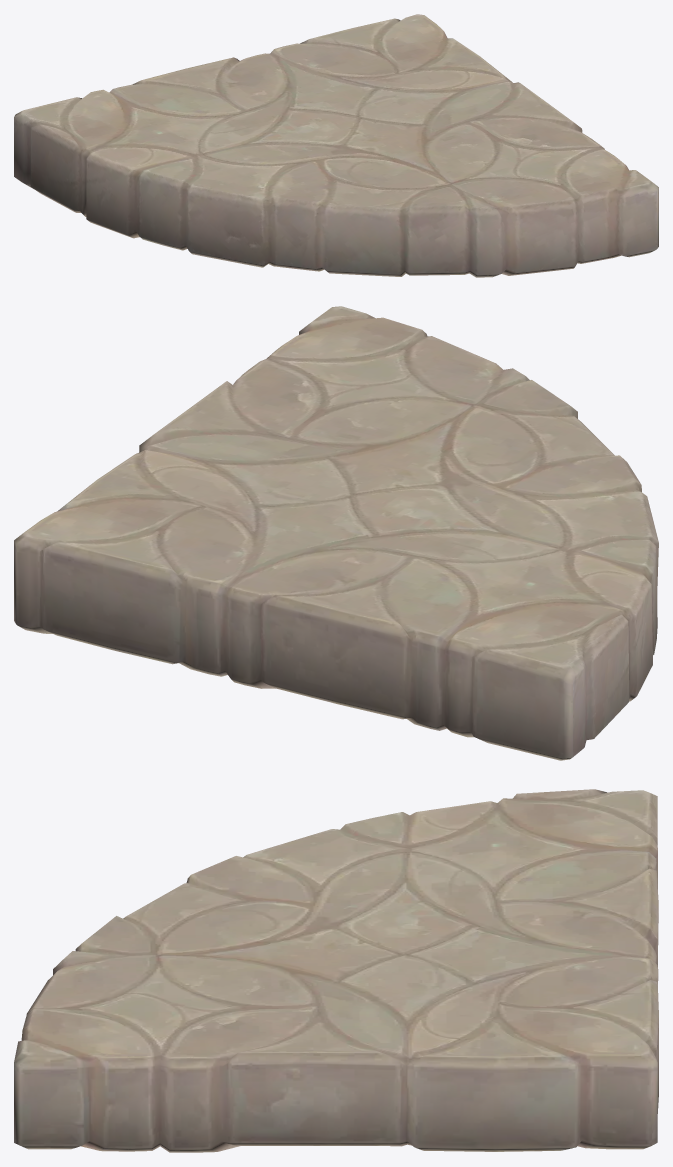
The picture shows the model from 3 angles, top to bottom: view 1: azimuth 30°, elevation 25°; view 2: azimuth 150°, elevation 25°; view 3: azimuth 270°, elevation 25°; orthographic projection. The views are drawn at different scales.
Size of the model in its own units: 5.02 by 0.8494 by 5.01.
Materials: 1 (1 with a texture image).
